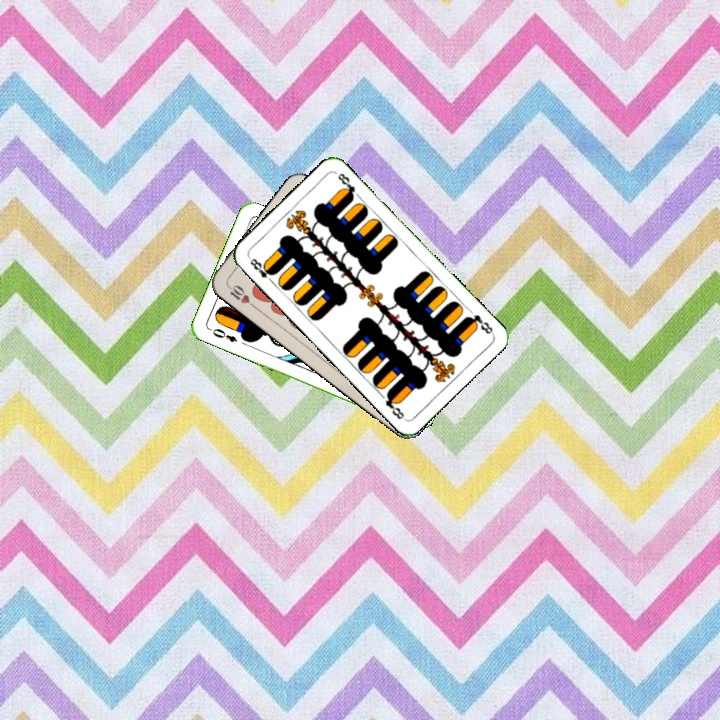E8: (246, 254, 277, 286), (462, 310, 495, 337)
EO: (205, 324, 240, 345)
H10: (223, 281, 258, 310)
